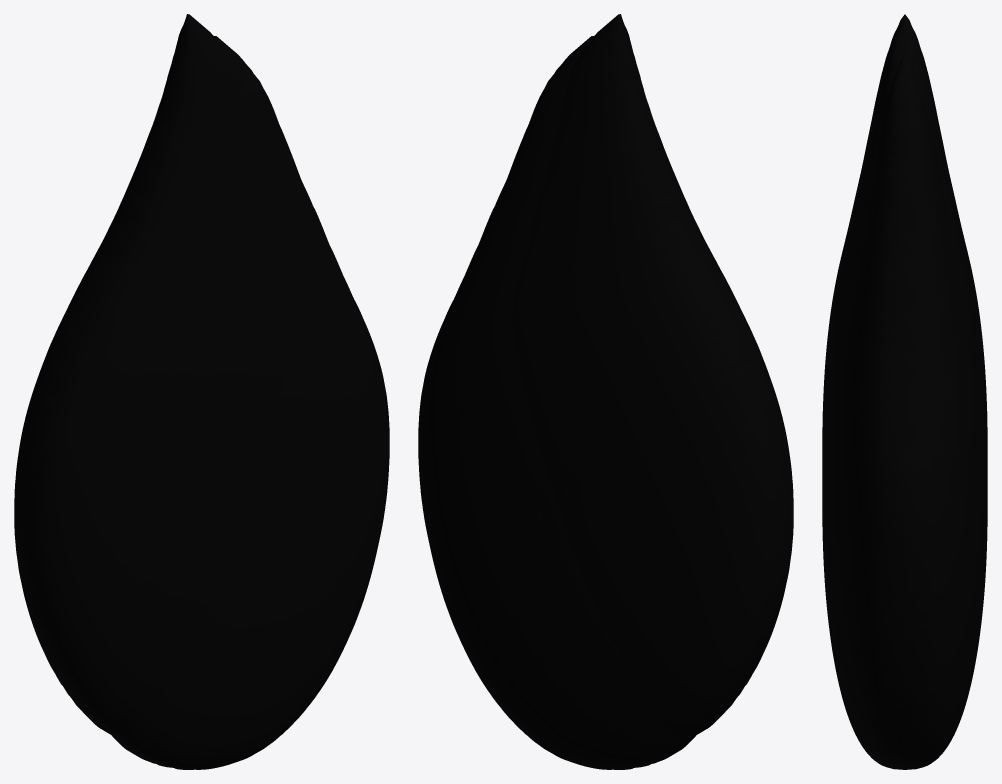
File: Mana.fbx
3 renders of one model, left to right at view 1: azimuth 30°, elevation 25°; view 2: azimuth 150°, elevation 25°; view 3: azimuth 270°, elevation 25°, orthographic. The views are drawn at different scales.
Parts seen in each view (by area): view 1: node_id118, node_id120; view 2: node_id118, node_id120; view 3: node_id120, node_id118.
Part boxes in pixels (box(x1,y1,x2,y2)): node_id118: box(14, 14, 295, 738); node_id120: box(112, 36, 389, 769); node_id118: box(512, 14, 793, 738); node_id120: box(418, 36, 695, 769); node_id120: box(822, 55, 987, 769); node_id118: box(822, 14, 987, 467).
Bounding box in the file's own units: 0.1174 × 0.2355 × 0.0482.
2 materials, 2 textured.
